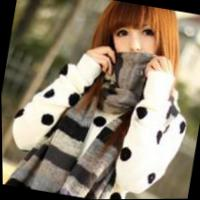WRONG: (107, 9, 166, 77)
